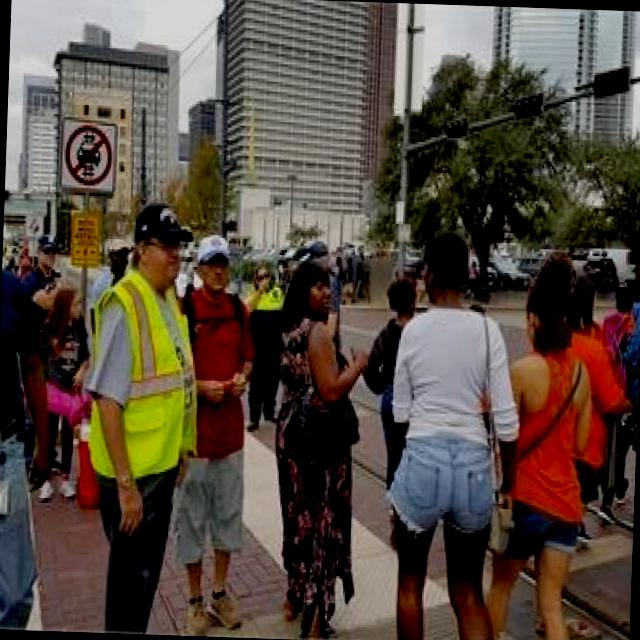vest: (94, 275, 196, 484)
